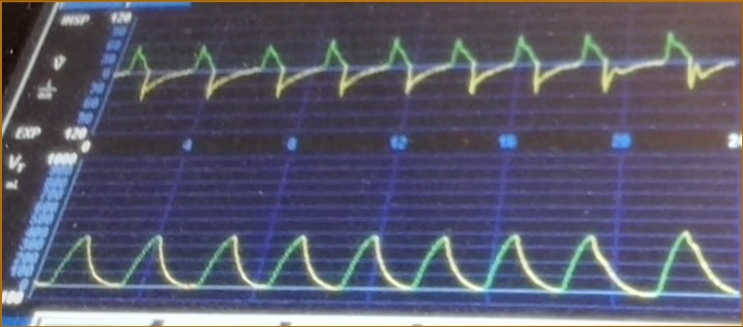Premature_cycling Flow: (122, 24, 732, 122)
Premature_cycling Volume: (46, 223, 738, 303)
